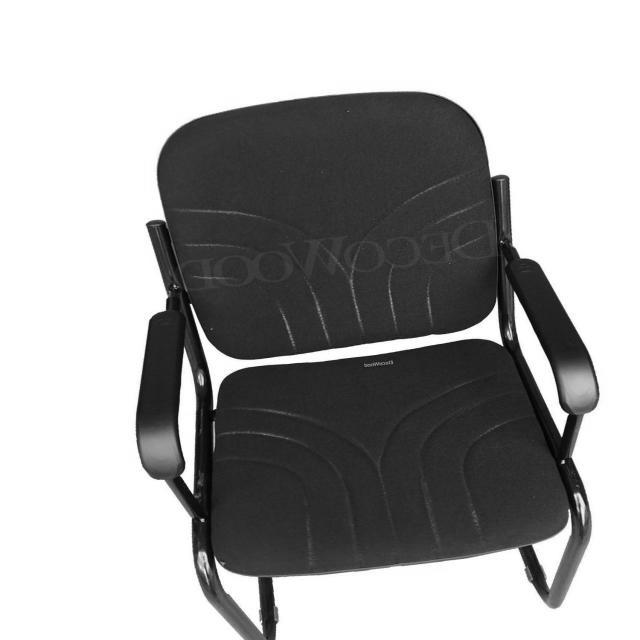chair: (126, 85, 602, 640)
